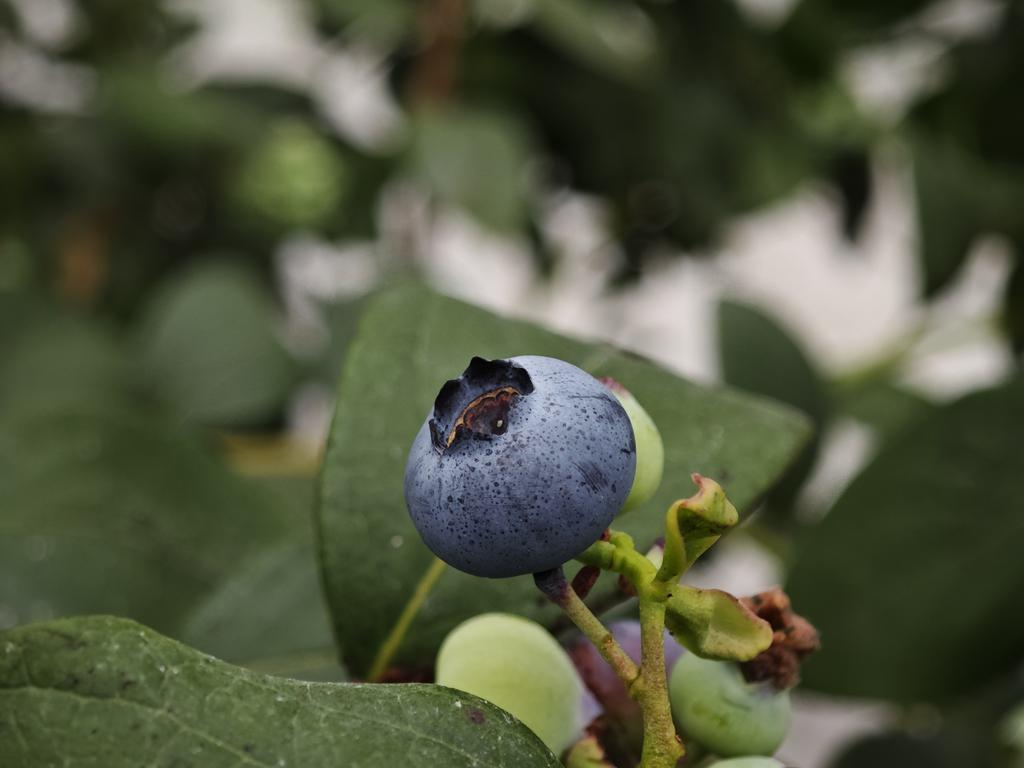RipeBlueBerry: (404, 351, 634, 580)
